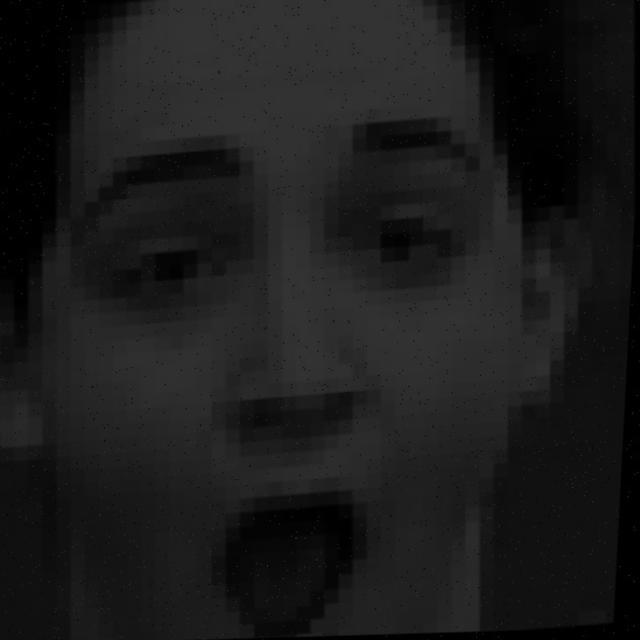Surprised: (53, 103, 525, 636)
